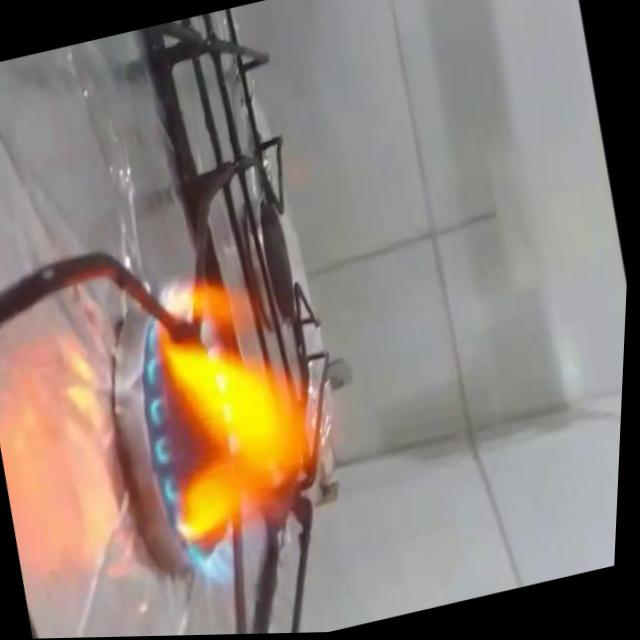Fire: (114, 241, 393, 613)
